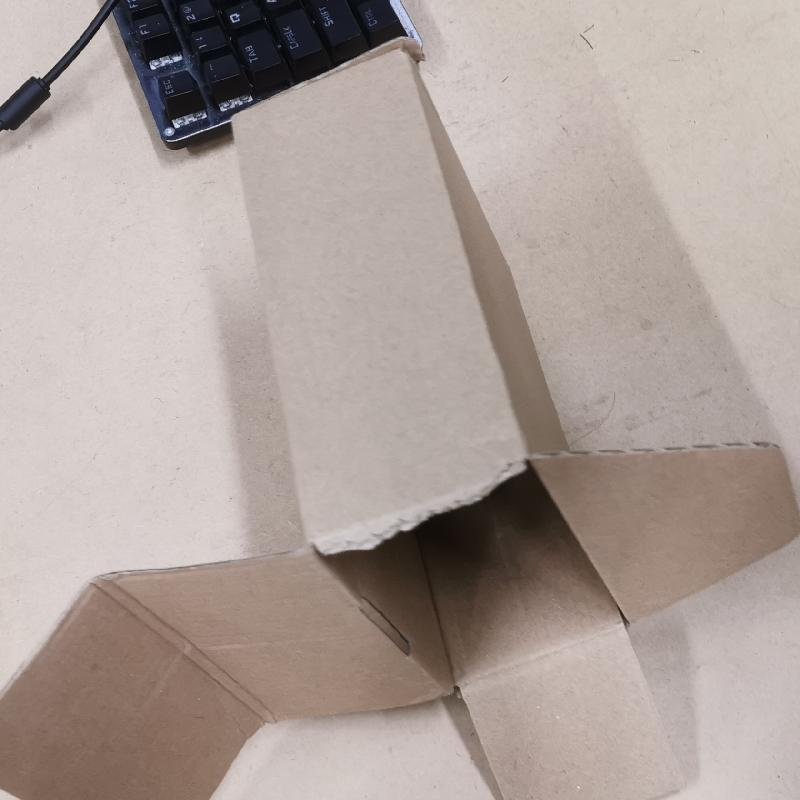boxes: (45, 46, 800, 800)
